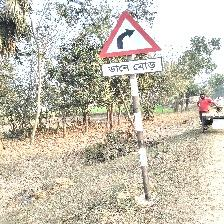Right-turn: (98, 10, 163, 78)
